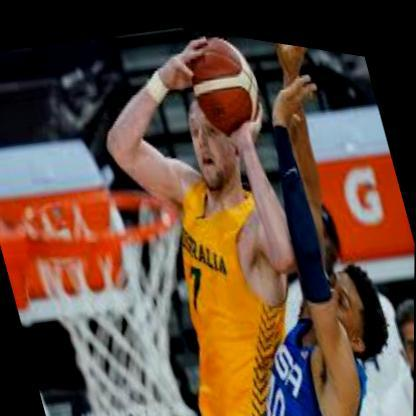basketball: (179, 22, 270, 136)
rim: (5, 150, 187, 285)
